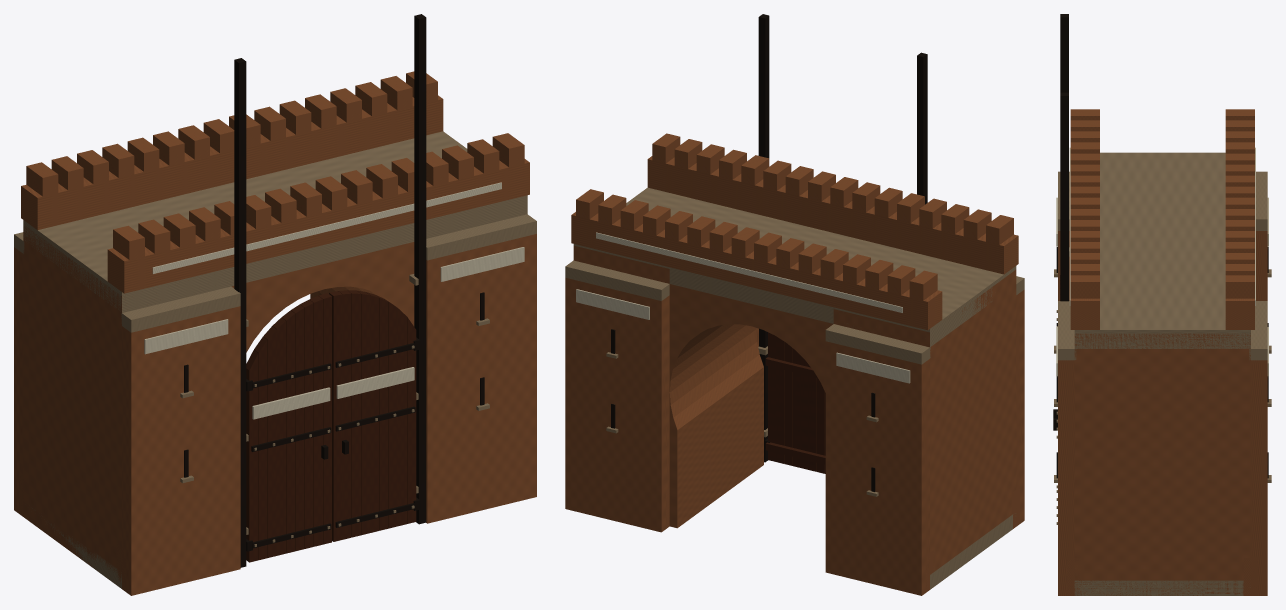
The model's file is Berber_StoneGate_Age2.fbx.
The picture shows the model from 3 angles, left to right: view 1: azimuth 30°, elevation 25°; view 2: azimuth 150°, elevation 25°; view 3: azimuth 270°, elevation 25°; orthographic projection. The views are drawn at different scales.
Parts seen in each view (by area): view 1: left_projecting_tower_face, left_tower_pier, right_projecting_tower_face, continuous_rampart_deck, walkway_parapet.001, walkway_parapet, continuous_horseshoe_gateway, portcullis_guide_track.001, portcullis_guide_track, left_tower_ledge, right_door_plank_8, parapet_owner_band (+51 smaller); view 2: left_projecting_tower_face.001, right_projecting_tower_face.001, left_tower_pier, continuous_horseshoe_gateway, continuous_rampart_deck, walkway_parapet, walkway_parapet.001, portcullis_guide_track.001, parapet_owner_band.001, left_tower_ledge.001, right_tower_ledge.001, left_projecting_tower_face (+45 smaller); view 3: right_tower_pier, continuous_rampart_deck, right_projecting_tower_face.001, right_projecting_tower_face, right_rubble_plinth, portcullis_guide_track.001, walkway_parapet, walkway_parapet.001, right_tower_ledge.001, right_tower_ledge, left_projecting_tower_face.001, crenellation.015 (+36 smaller).
Part boxes in pixels (x1,y1,x2,y2): left_projecting_tower_face: [122, 306, 240, 595]; left_tower_pier: [23, 225, 121, 576]; right_projecting_tower_face: [426, 234, 536, 523]; continuous_rampart_deck: [23, 131, 527, 312]; walkway_parapet.001: [21, 95, 443, 230]; walkway_parapet: [107, 159, 529, 293]; continuous_horseshoe_gateway: [231, 242, 414, 352]; portcullis_guide_track.001: [414, 14, 426, 524]; portcullis_guide_track: [234, 58, 246, 567]; left_tower_ledge: [121, 286, 240, 332]; right_door_plank_8: [329, 291, 342, 541]; parapet_owner_band: [152, 182, 501, 273]; left_projecting_tower_face.001: [825, 341, 929, 595]; right_projecting_tower_face.001: [565, 277, 669, 532]; left_tower_pier: [833, 269, 1016, 571]; continuous_horseshoe_gateway: [669, 284, 833, 528]; continuous_rampart_deck: [573, 187, 1016, 346]; walkway_parapet: [647, 156, 1018, 274]; walkway_parapet.001: [571, 212, 942, 330]; portcullis_guide_track.001: [758, 14, 769, 462]; parapet_owner_band.001: [596, 232, 902, 312]; left_tower_ledge.001: [825, 324, 930, 364]; right_tower_ledge.001: [565, 260, 669, 300]; left_projecting_tower_face: [1016, 289, 1024, 523]; right_tower_pier: [1074, 333, 1250, 595]; continuous_rampart_deck: [1074, 152, 1250, 348]; right_projecting_tower_face.001: [1251, 360, 1267, 595]; right_projecting_tower_face: [1058, 360, 1074, 595]; right_rubble_plinth: [1074, 580, 1250, 595]; portcullis_guide_track.001: [1060, 92, 1068, 301]; walkway_parapet: [1070, 298, 1099, 329]; walkway_parapet.001: [1225, 298, 1254, 329]; right_tower_ledge.001: [1249, 301, 1267, 360]; right_tower_ledge: [1058, 301, 1076, 360]; left_projecting_tower_face.001: [1256, 231, 1267, 300]; crenellation.015: [1070, 275, 1099, 298].
Size of the model in its own units: 1000 by 1190 by 520.
Materials: 5 (5 with a texture image).
